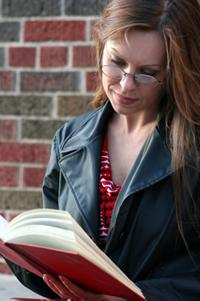person: (42, 3, 200, 300)
